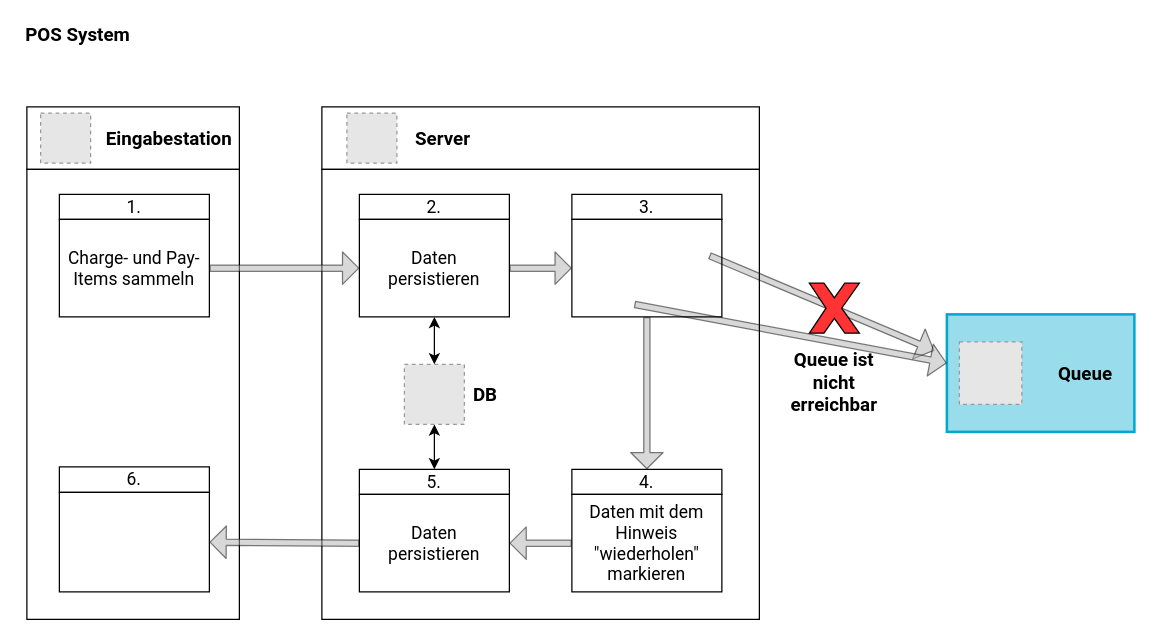
Some shapes in this 1156 by 641 pixel diagram are drawn without their labels. Grey dashed boxes stand in for pictures. The shapes that lost their labels are listed below. From the top down, each one's centre as x and y in pixels, then its label:
the point at 646,267: sign - Request senden
the point at 133,541: Beleg drucken mit Hinweis: "Sicherheits- mechanismus ausgefallen"
